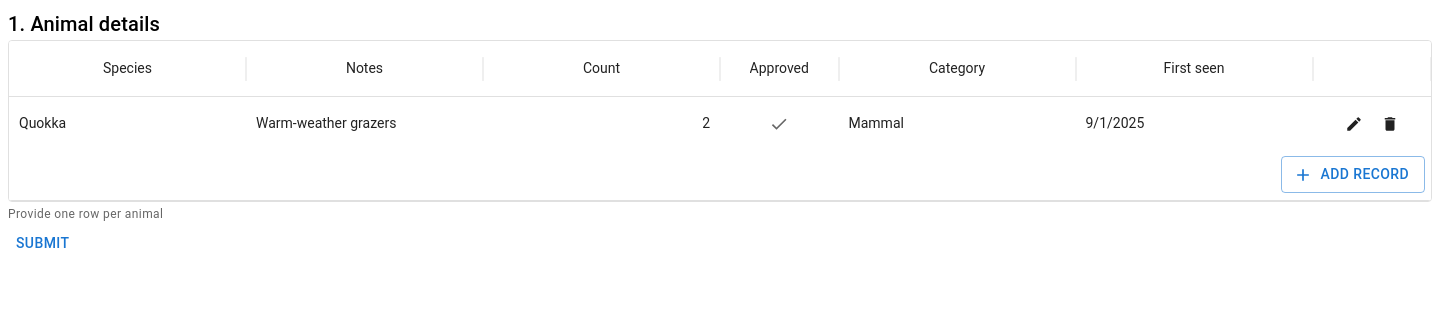
Test: GridInput › supports editing, saving and deleting row records in the grid workflow
Step 1. Click the button named "Edit" → (1354, 124), box [1340,110,1368,138]
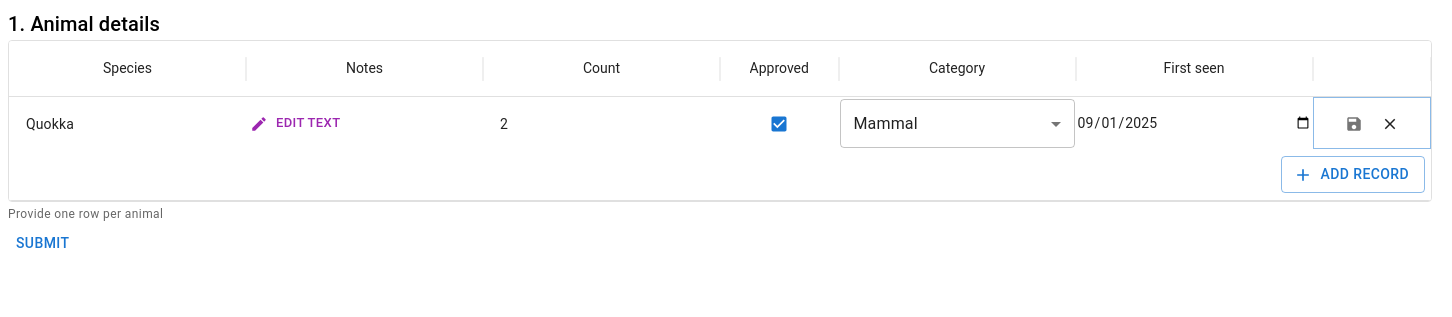
Now the button named "Save" is shown
Step 2. Click the button named "Save" → (1354, 124), box [1340,110,1368,138]
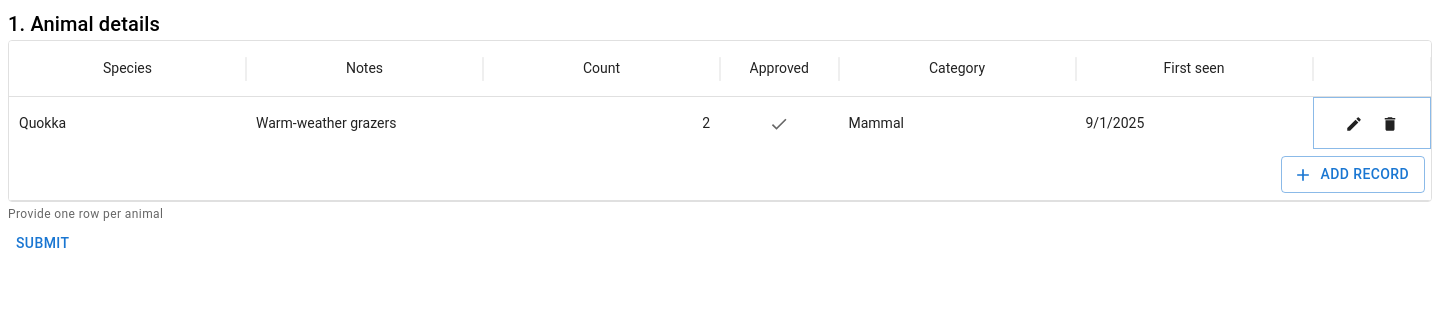
Now the button named "Delete" is shown
Step 3. Click the button named "Delete" → (1390, 124), box [1376,110,1404,138]
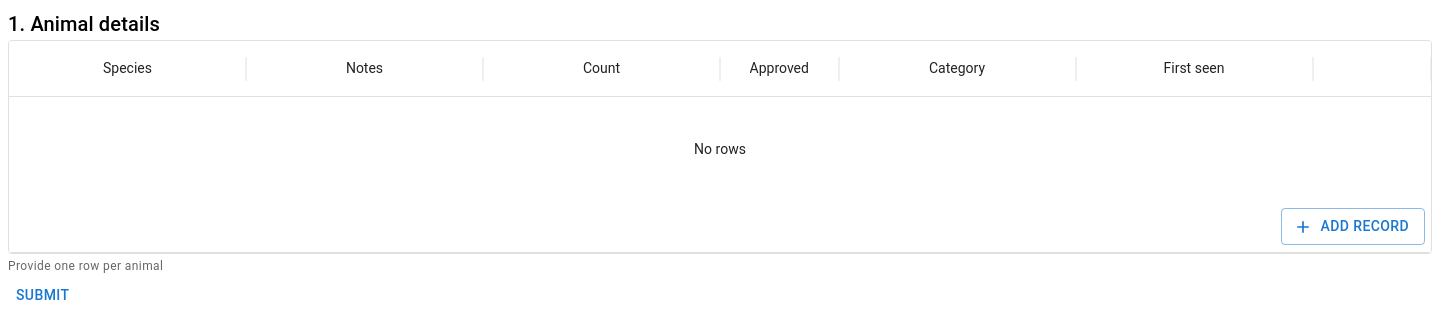
Now the text "Quokka" is gone
